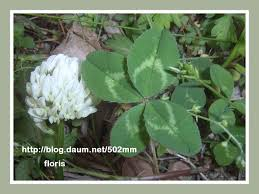4-clover: (83, 28, 201, 159)
